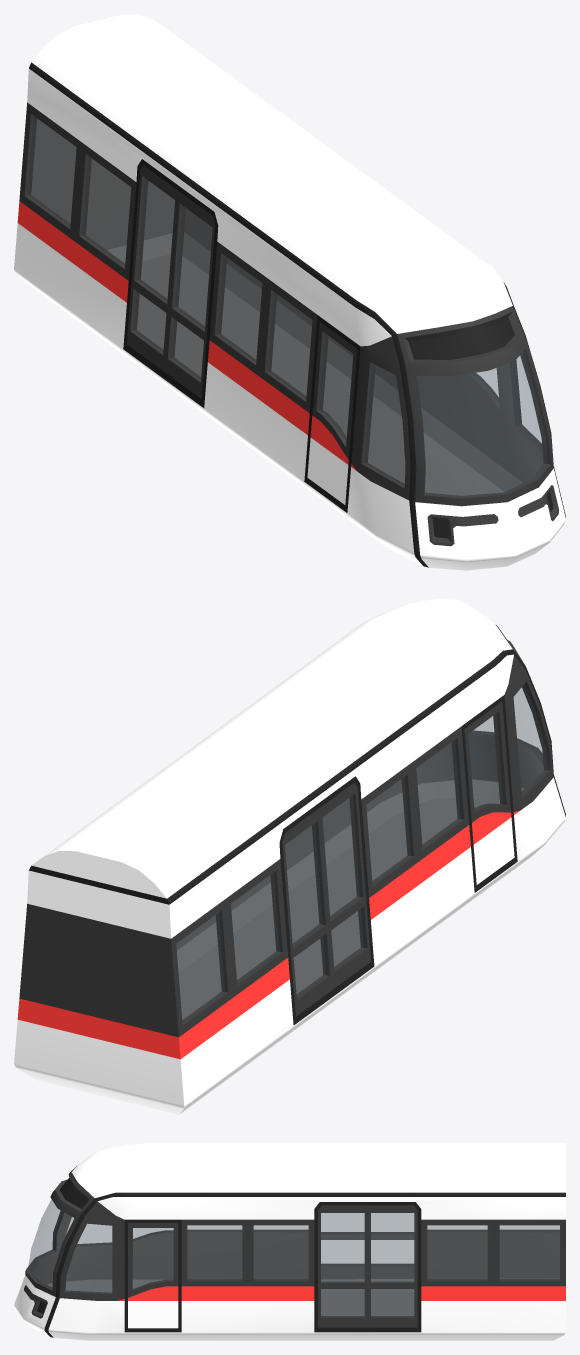
The model's file is tram_head_001.glb.
3 renders of one model, top to bottom at view 1: azimuth 30°, elevation 25°; view 2: azimuth 150°, elevation 25°; view 3: azimuth 270°, elevation 25°, orthographic. The views are drawn at different scales.
Visible parts, largest first — view 1: tram_head_001; view 2: tram_head_001; view 3: tram_head_001.
Boxes of the visible parts, x1=… form: tram_head_001: x1=14, y1=14, x2=565, y2=570; tram_head_001: x1=14, y1=599, x2=565, y2=1114; tram_head_001: x1=14, y1=1143, x2=565, y2=1340.
Bounding box in the file's own units: 2.4 × 3.34 × 10.19.
Materials: 2 (2 with a texture image).
